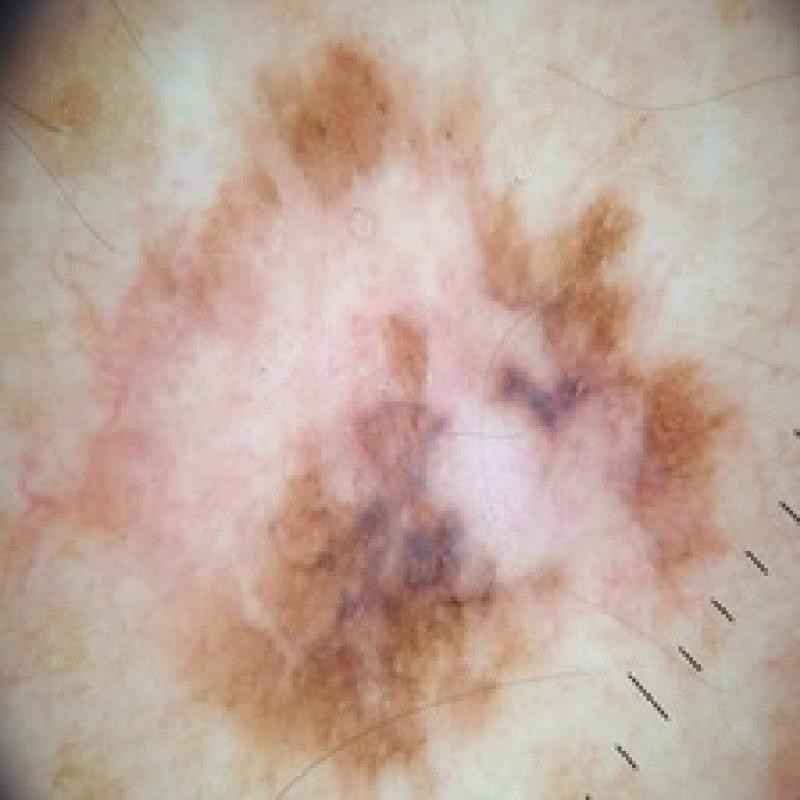malignant: (442, 167, 735, 583), (222, 308, 490, 757)
